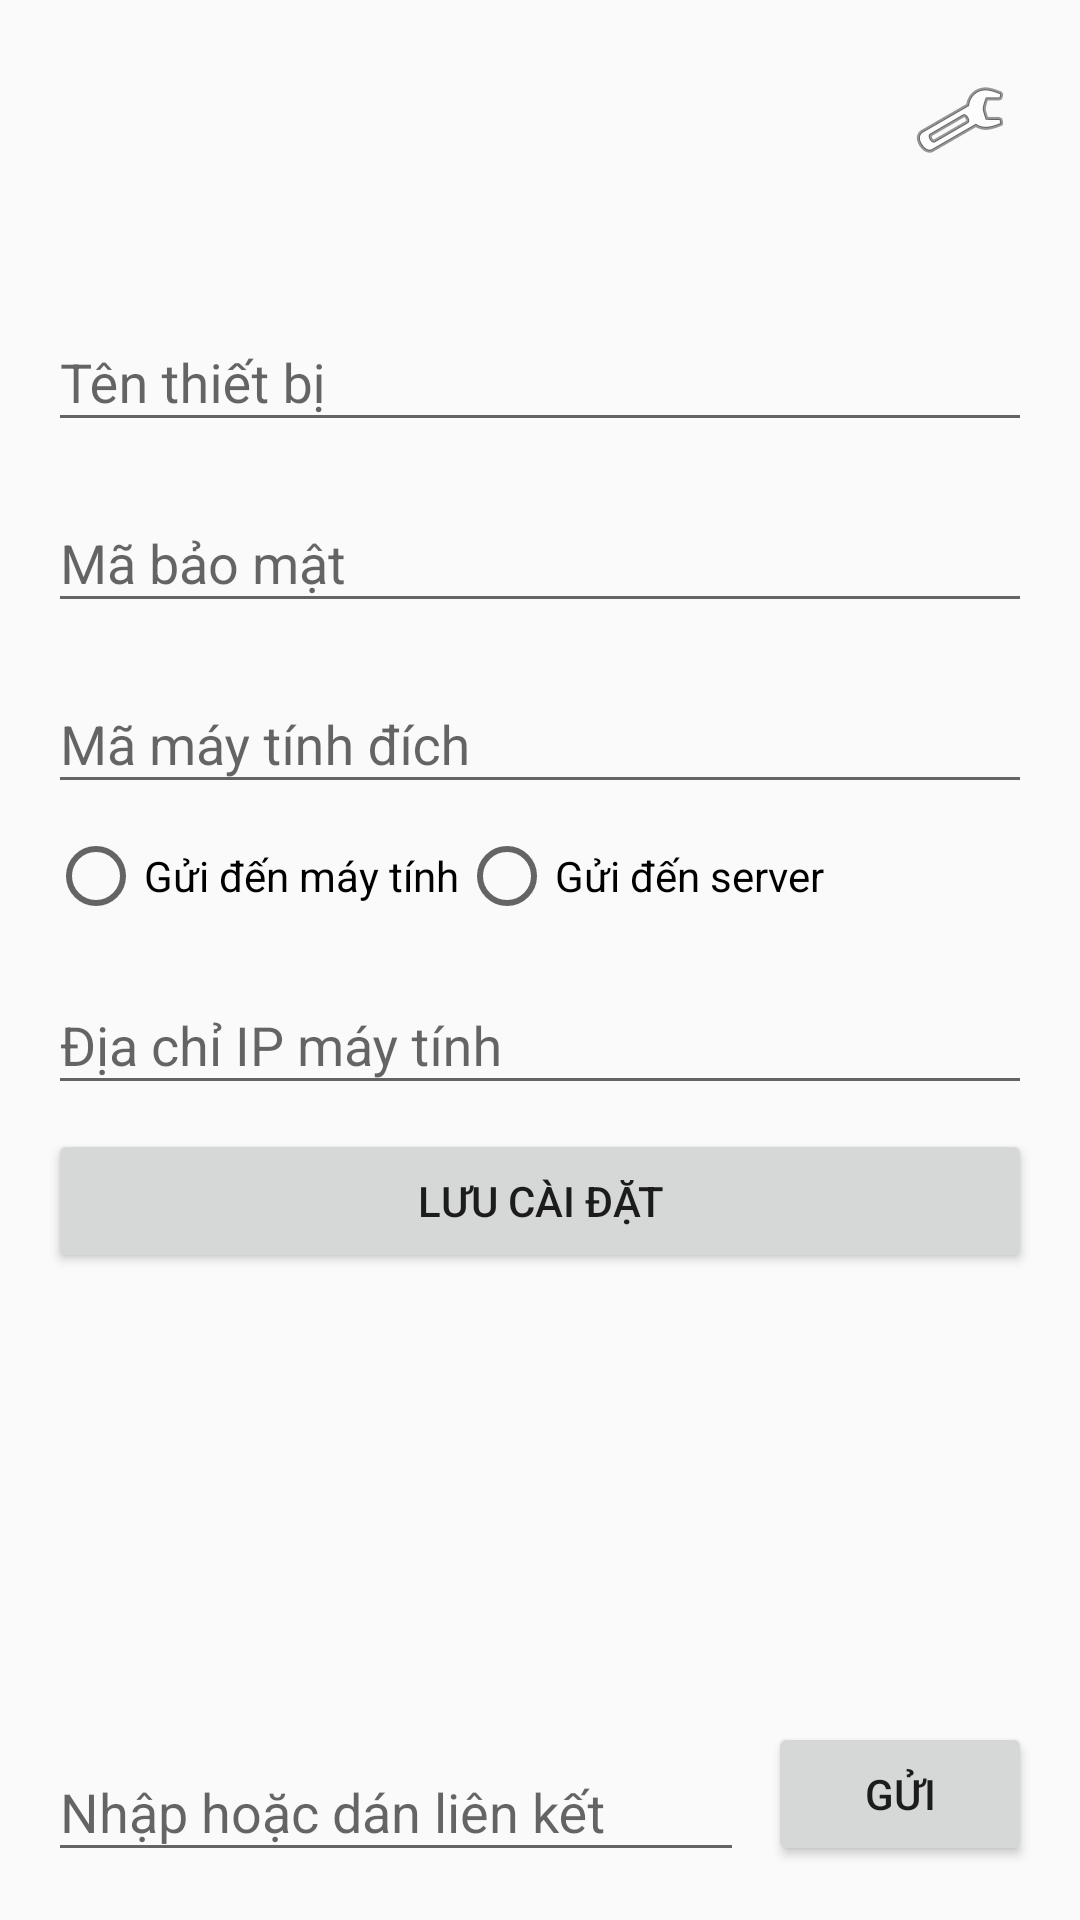

Where to tap for icons on this 1080×1920 app screen, as (x,y):
Cài đặt: (960,120)
